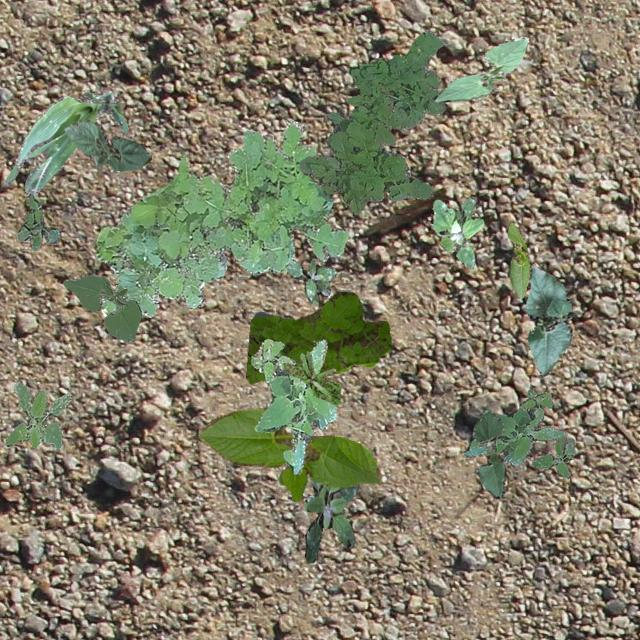crop: (198, 408, 380, 500), (2, 90, 128, 196), (432, 36, 528, 100), (62, 274, 140, 342), (524, 264, 572, 374), (64, 119, 150, 170), (472, 408, 504, 498), (506, 222, 530, 298)
weed: (95, 118, 348, 316), (300, 28, 444, 214), (244, 290, 390, 382), (250, 338, 336, 473), (462, 388, 566, 464), (302, 478, 358, 562), (4, 379, 70, 448), (430, 196, 482, 268), (280, 350, 340, 404), (15, 192, 60, 250), (282, 258, 336, 304), (530, 433, 574, 478)
